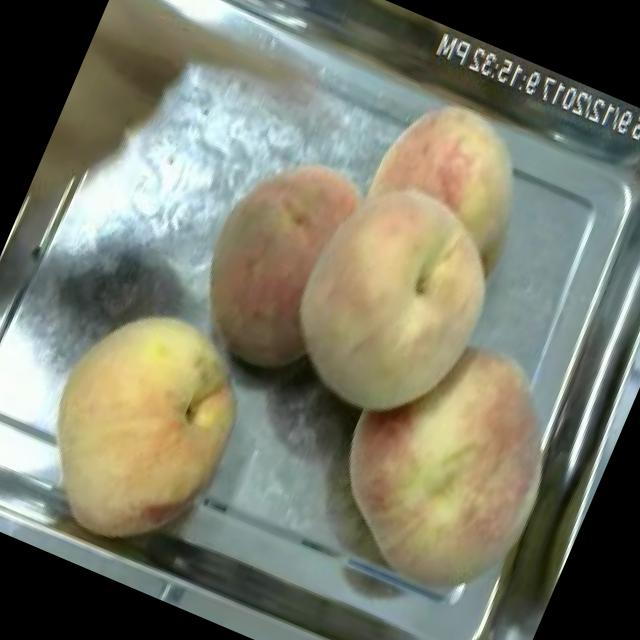Fruit: (294, 304, 598, 628), (2, 270, 284, 580), (256, 150, 530, 450), (163, 125, 382, 391), (352, 77, 554, 263)
